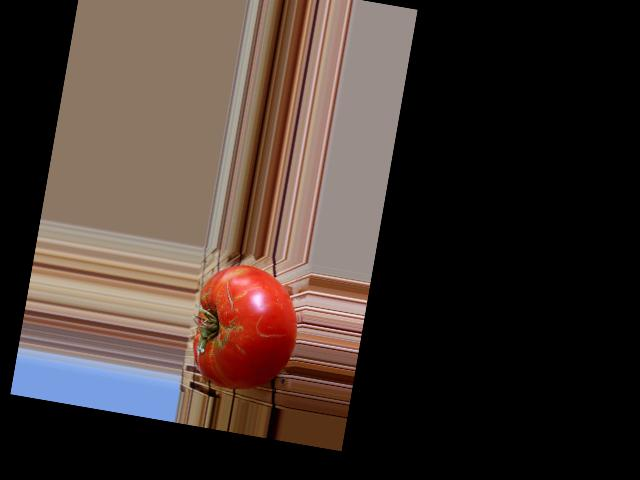tomato: (186, 259, 305, 398)
